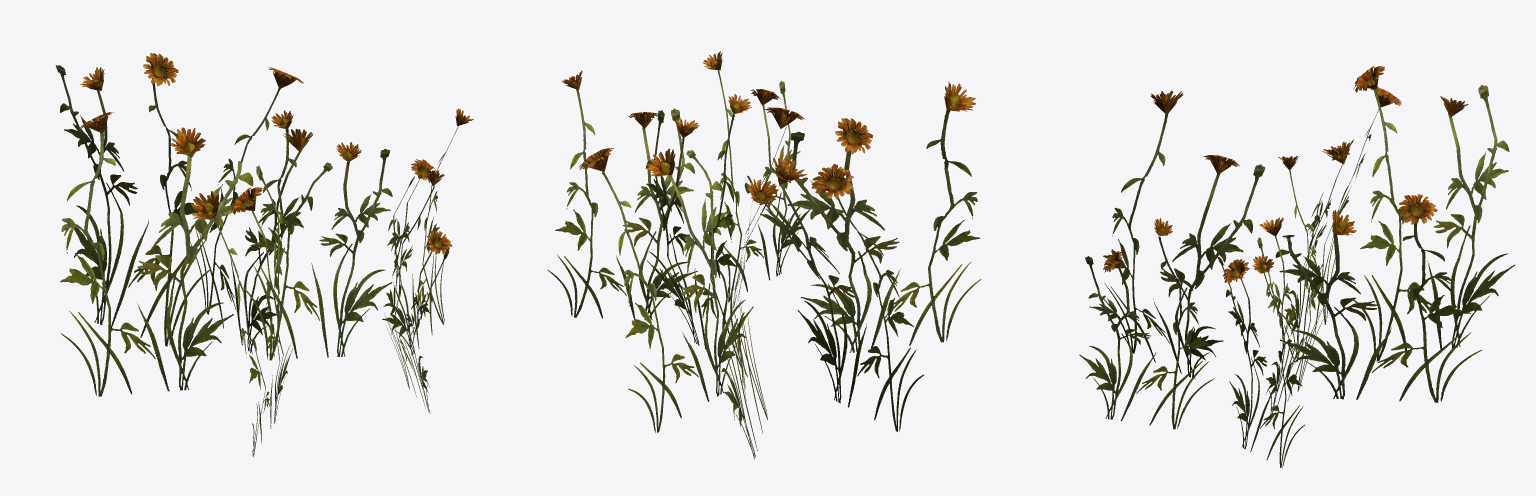
Rendered from bg_anh_foliage_te_f03_sm_old.FBX.
The picture shows the model from 3 angles, left to right: view 1: azimuth 30°, elevation 25°; view 2: azimuth 150°, elevation 25°; view 3: azimuth 270°, elevation 25°; orthographic projection. The views are drawn at different scales.
Visible parts, largest first — view 1: bg_anh_foliage_te_f03_sm_old; view 2: bg_anh_foliage_te_f03_sm_old; view 3: bg_anh_foliage_te_f03_sm_old.
Boxes of the visible parts, box(x1,y1,x2,y2) form: bg_anh_foliage_te_f03_sm_old: box(55, 53, 473, 456); bg_anh_foliage_te_f03_sm_old: box(547, 51, 981, 459); bg_anh_foliage_te_f03_sm_old: box(1079, 65, 1514, 468).
Size of the model in its own units: 110 by 80.54 by 105.
